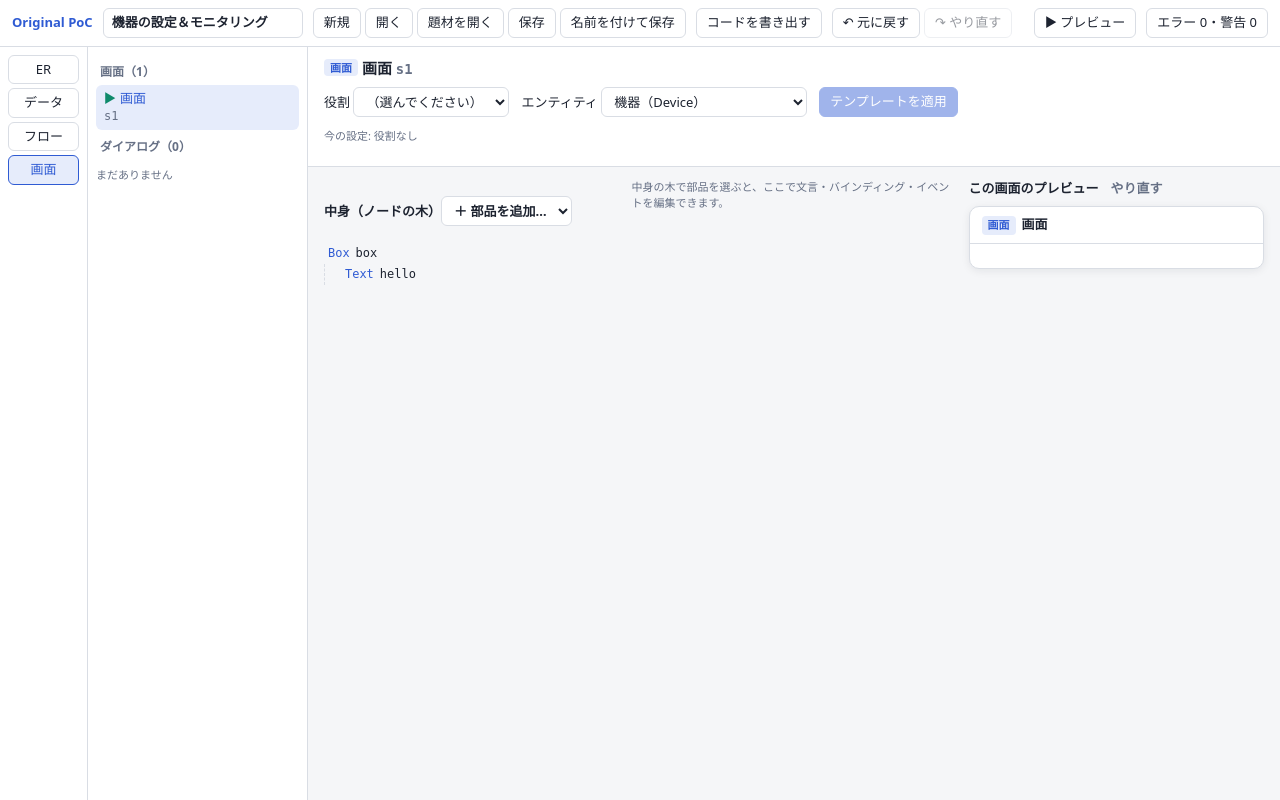
Test: 生成の UI › 画面ビュー: テンプレートを当て直すときは、置き換わる部品を示す
Select "一覧" in the dropdown labelled "役割" at (431, 102), box x1=353 y1=87 x2=509 y2=117
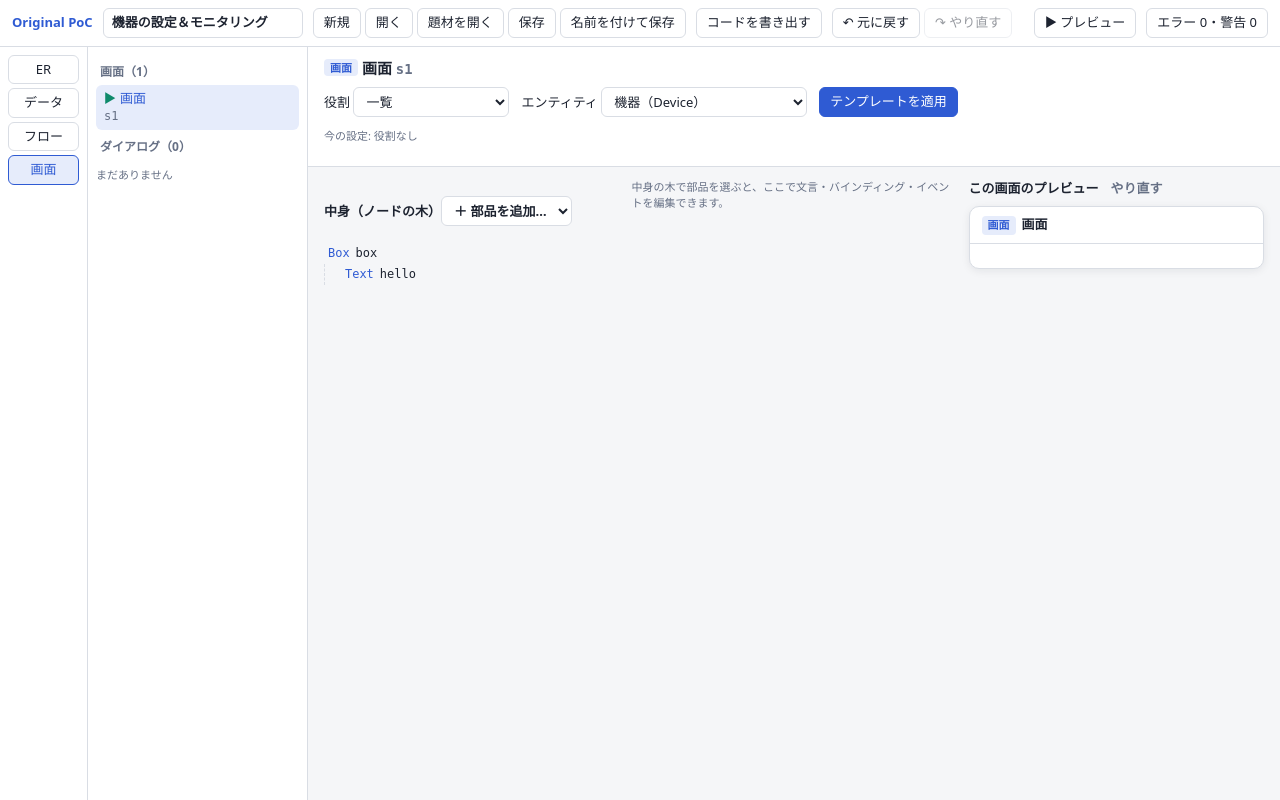
Click the button "テンプレートを適用" at (889, 102), box x1=819 y1=87 x2=958 y2=117
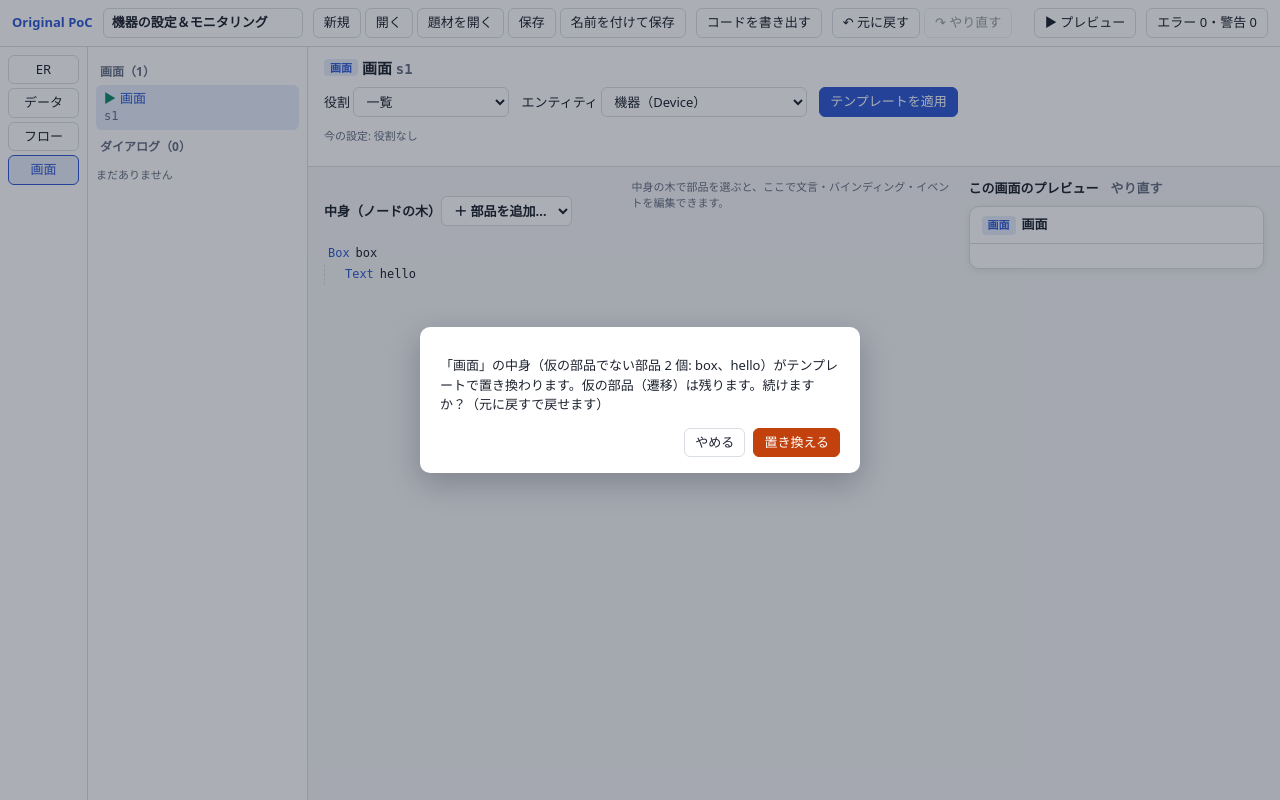
Check: the dialog shows "仮の部品でない部品 2 個: box、hello", box x1=440 y1=356 x2=838 y2=413
